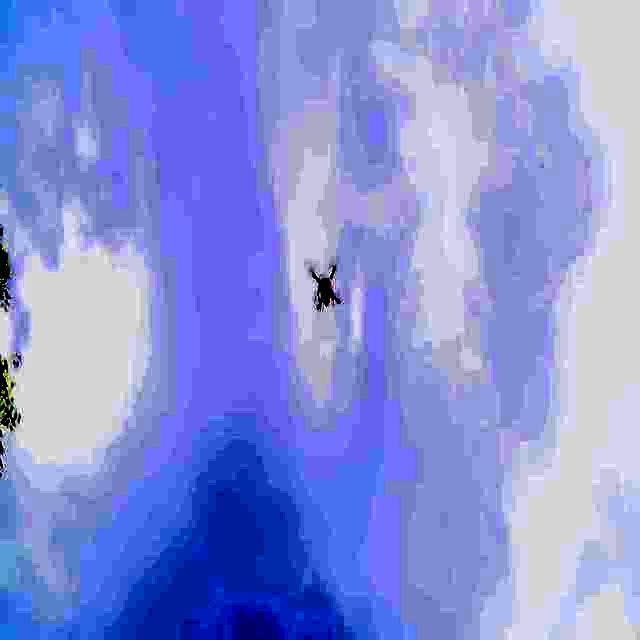drone: (307, 260, 344, 317)
